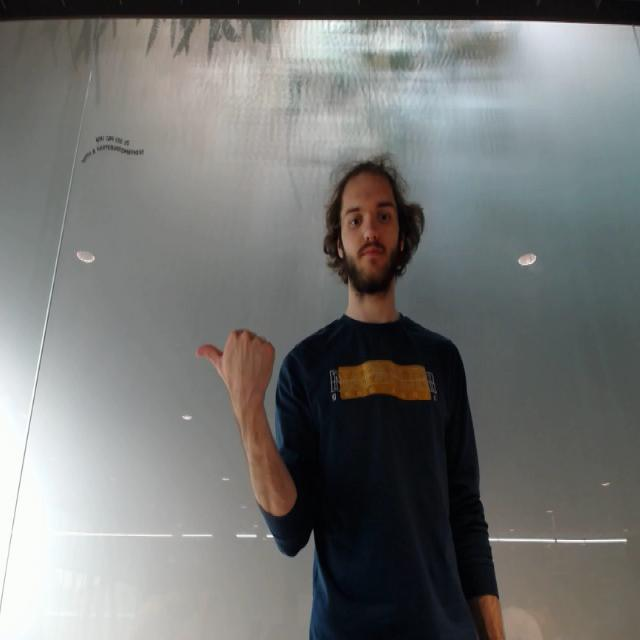left: (193, 326, 280, 406)
